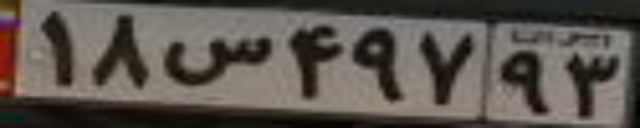1: (40, 10, 76, 85)
3: (566, 53, 623, 117)
4: (284, 25, 343, 99)
7: (416, 27, 477, 106)
8: (86, 13, 151, 89)
9: (352, 28, 410, 102), (499, 50, 550, 114)
sin: (159, 34, 274, 85)
